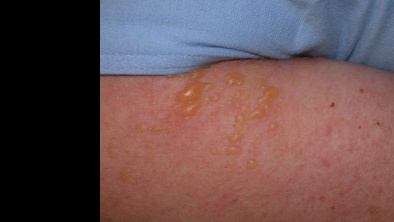SJS-TEN: (93, 55, 299, 221)
